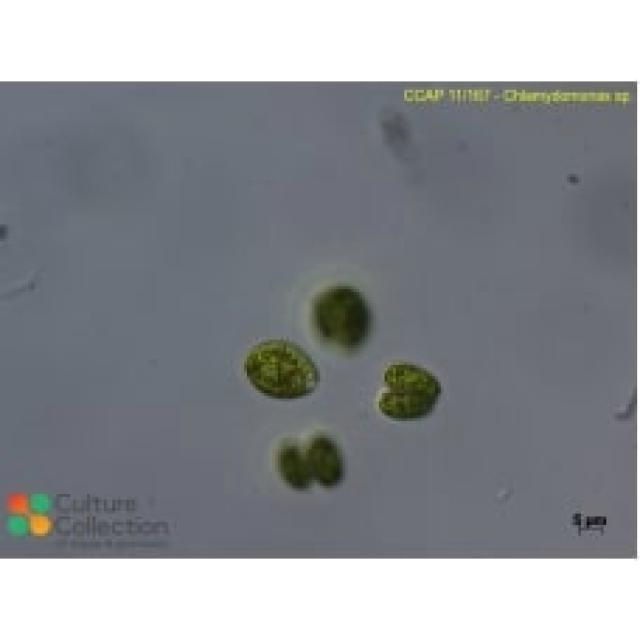Green Algae: (241, 339, 323, 402), (303, 427, 348, 491), (388, 359, 443, 399), (376, 388, 441, 418), (278, 441, 311, 491)
